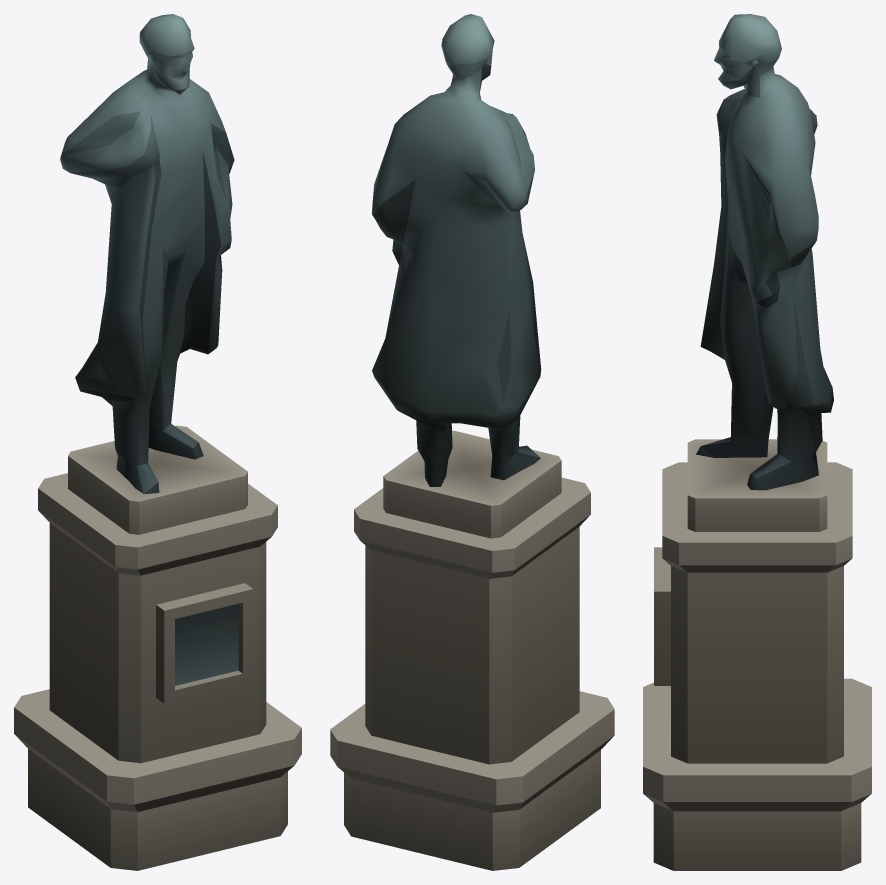
Rendered from Statue_3A.fbx.
3 views of the same model, side by side, from view 1: azimuth 30°, elevation 25°; view 2: azimuth 150°, elevation 25°; view 3: azimuth 270°, elevation 25° (orthographic). The views are drawn at different scales.
Visible parts, largest first — view 1: Statue_3A; view 2: Statue_3A; view 3: Statue_3A.
Part boxes in pixels (<box>): Statue_3A: <box>14,14,301,870</box>; Statue_3A: <box>330,14,614,870</box>; Statue_3A: <box>643,14,871,870</box>.
Bounding box in the file's own units: 279 × 1097 × 279.
